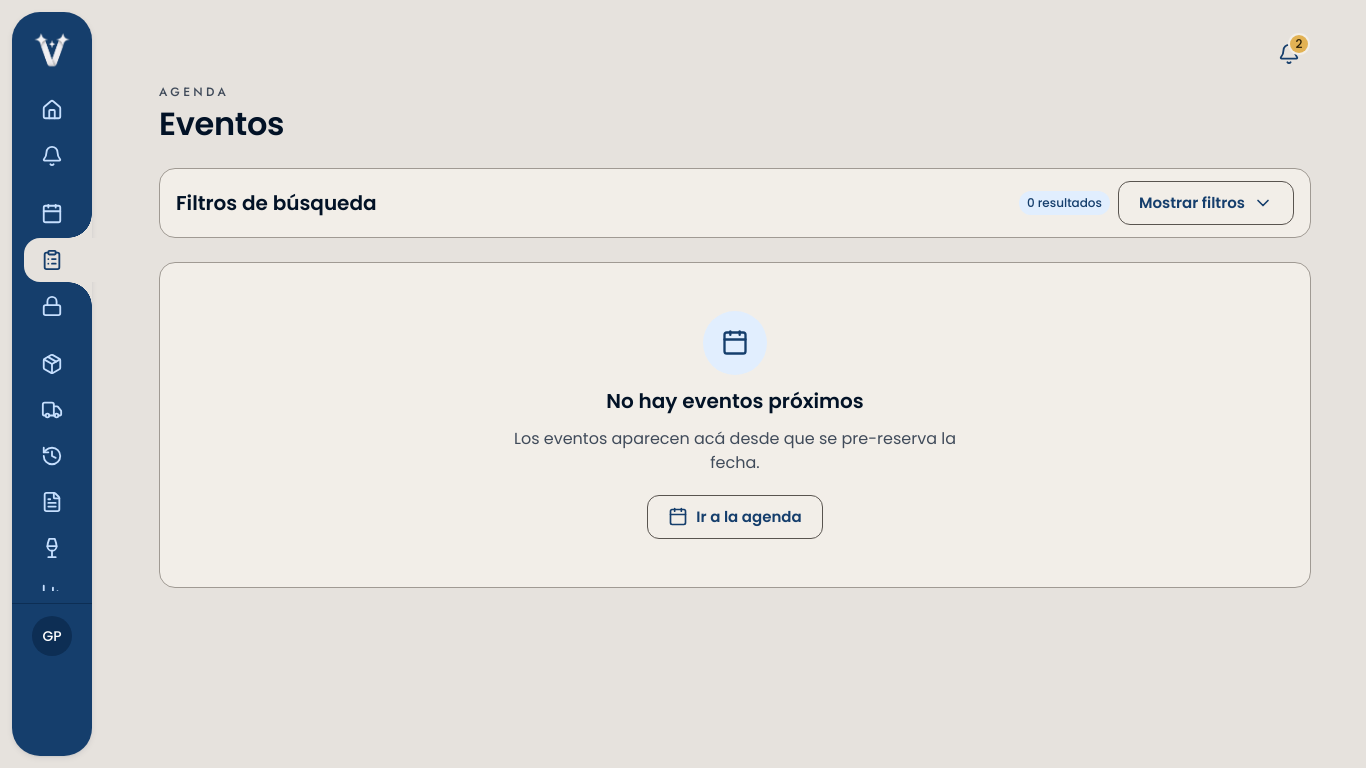
UI-22 · notificaciones › en «Todas» se ven también las leídas y se cargan más de a 20
The width and height of the screenshot is (1366, 768).
Click the button named "Notificaciones, 2 sin leer". click: (1289, 54)
box: 1267,32 -> 1311,76
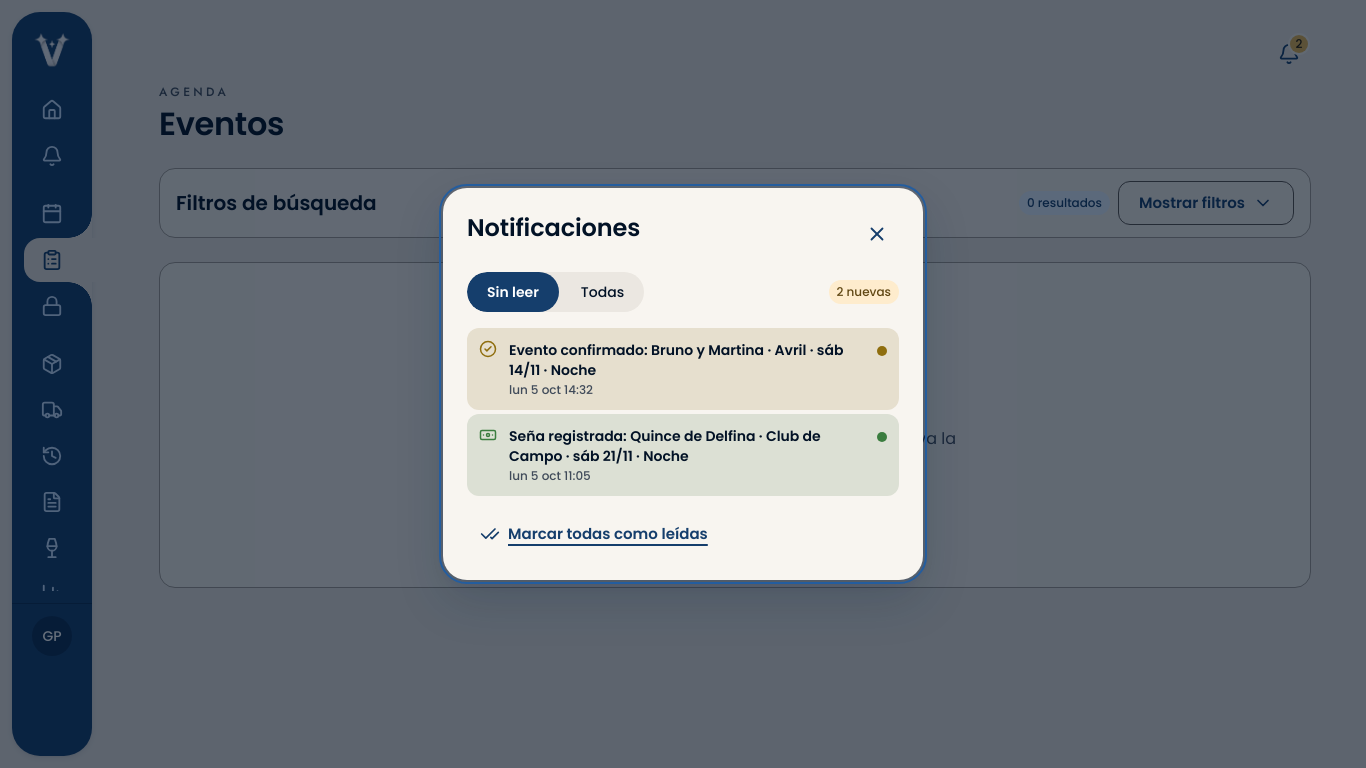
Click the tab "Todas". click: (602, 292)
box: 561,272 -> 644,312
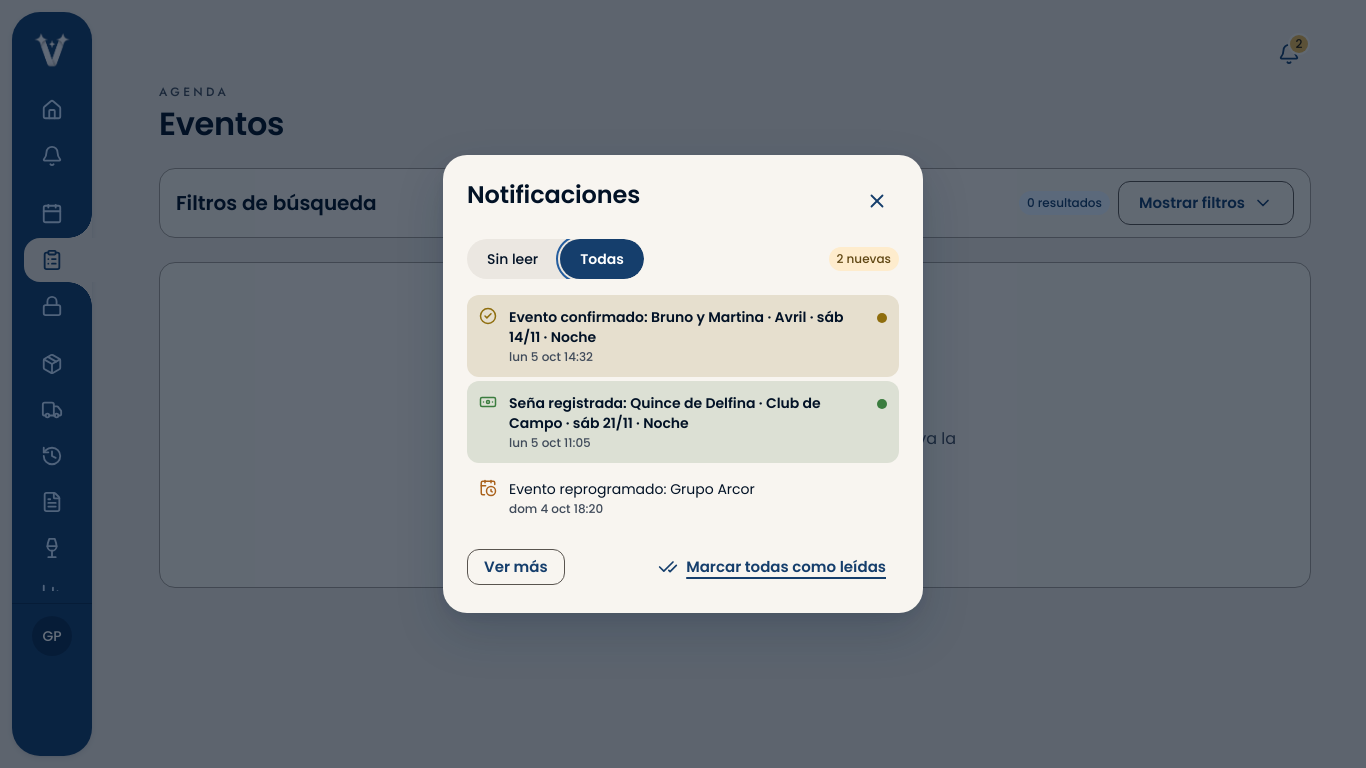
Expected: the button "Evento reprogramado: Grupo Arcor dom 4 oct 18:20" does not show "Sin leer", 467,467 -> 899,529
Now the text "Evento reprogramado: Grupo Arcor" is shown, box 509,479 -> 755,499
Click the button "Ver más". click: (516, 567)
box: 467,549 -> 565,585
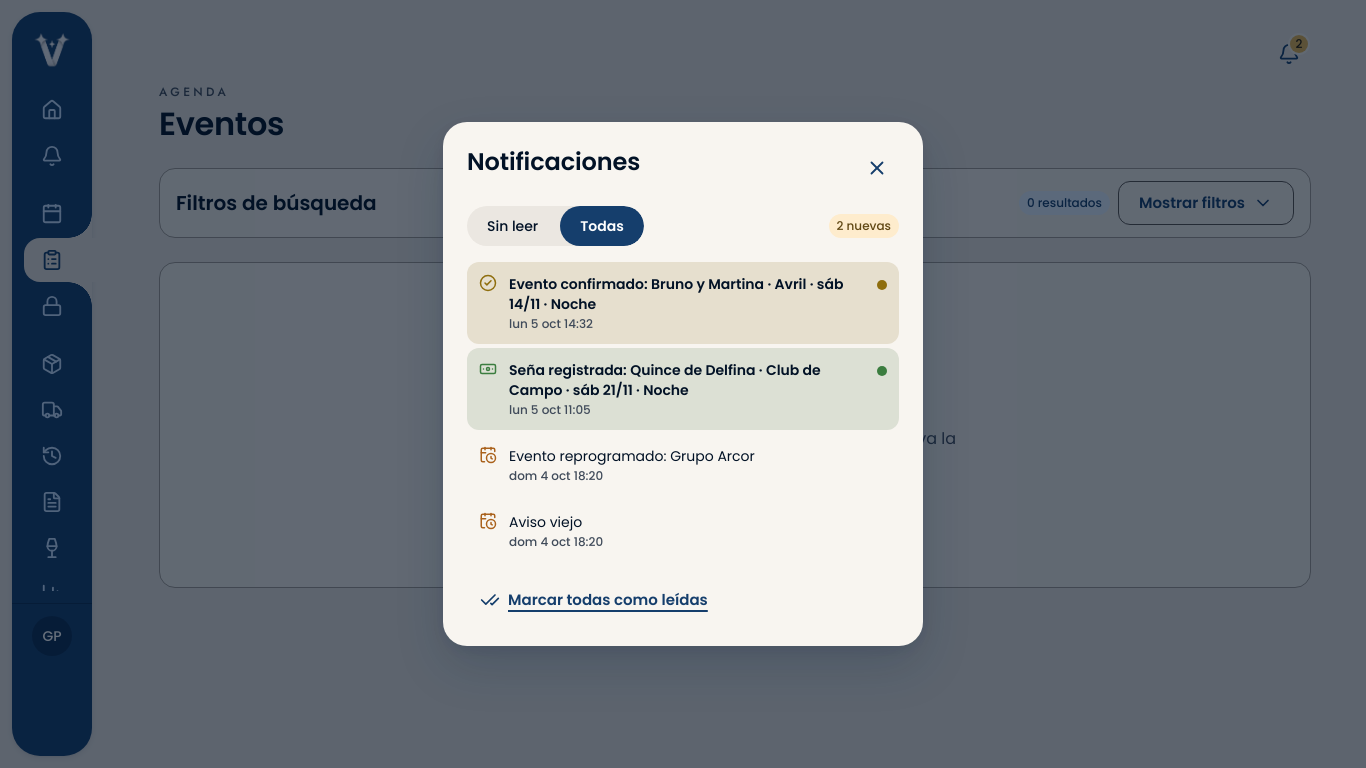
Now the text "Aviso viejo" is shown, box 509,512 -> 582,532
Now the number of list items is 4, box 467,262 -> 899,344; 467,348 -> 899,430; 467,434 -> 899,496; 467,500 -> 899,562
